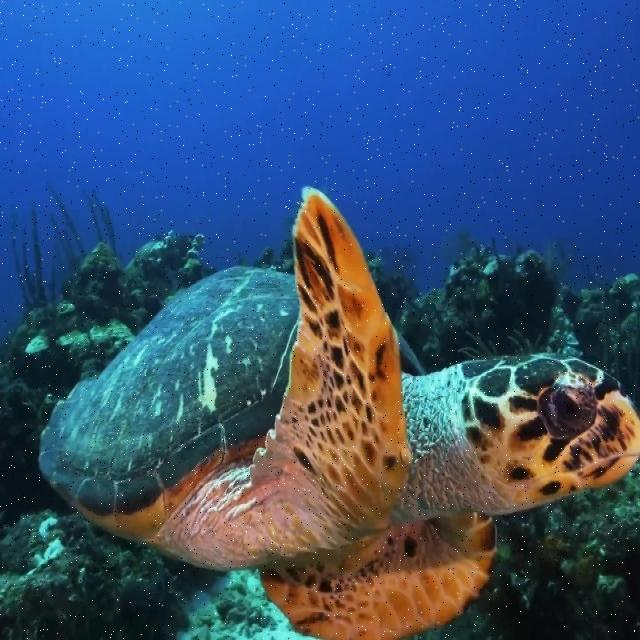fish: (40, 185, 639, 639)
